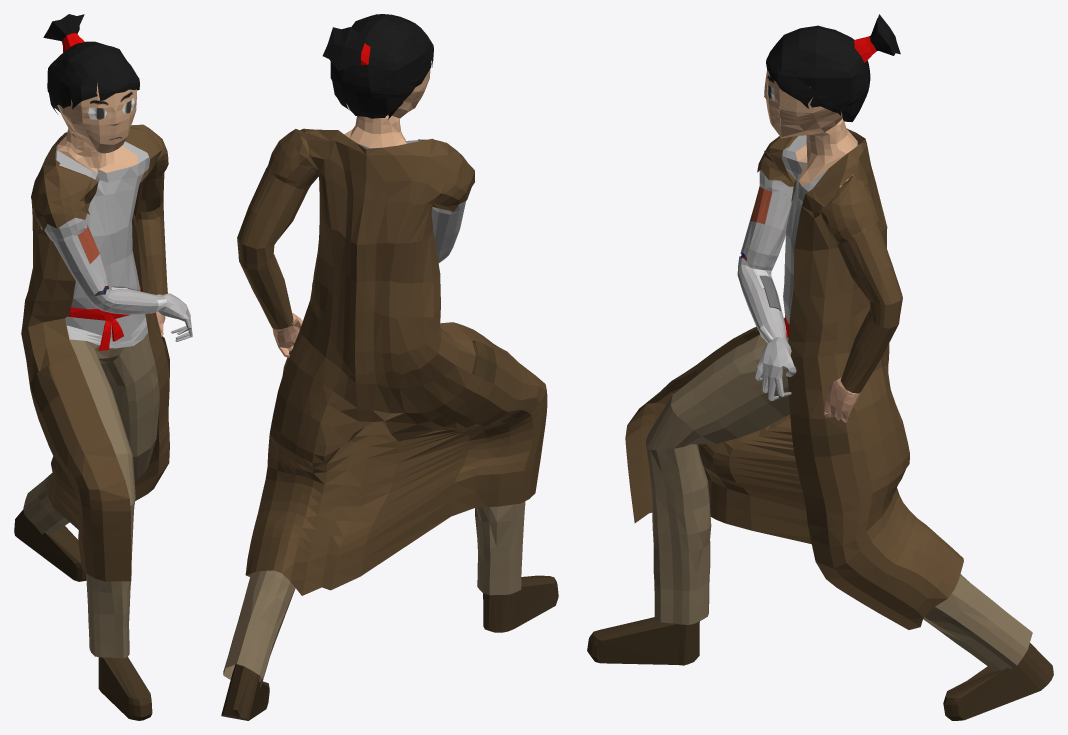
Rendered from One_DL_000001.obj.
3 renders of one model, left to right at view 1: azimuth 30°, elevation 25°; view 2: azimuth 150°, elevation 25°; view 3: azimuth 270°, elevation 25°, orthographic. The views are drawn at different scales.
Visible parts, largest first — view 1: Hair_Cube.004; view 2: Hair_Cube.004; view 3: Hair_Cube.004.
Part boxes in pixels (bbox=[...]): Hair_Cube.004: bbox=[14, 14, 192, 720]; Hair_Cube.004: bbox=[221, 14, 558, 720]; Hair_Cube.004: bbox=[587, 14, 1053, 720].
Bounding box in the file's own units: 1.12 × 3.62 × 2.28.
